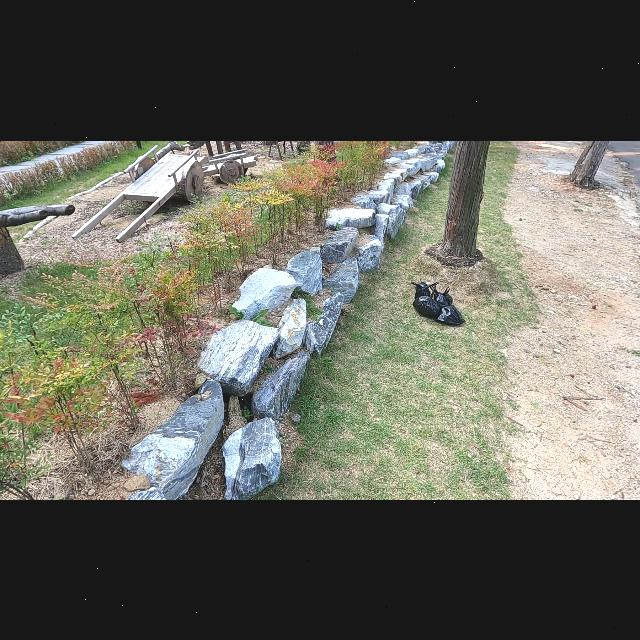trash: (408, 288, 446, 320), (425, 283, 455, 315), (412, 278, 442, 308), (434, 298, 464, 326)
